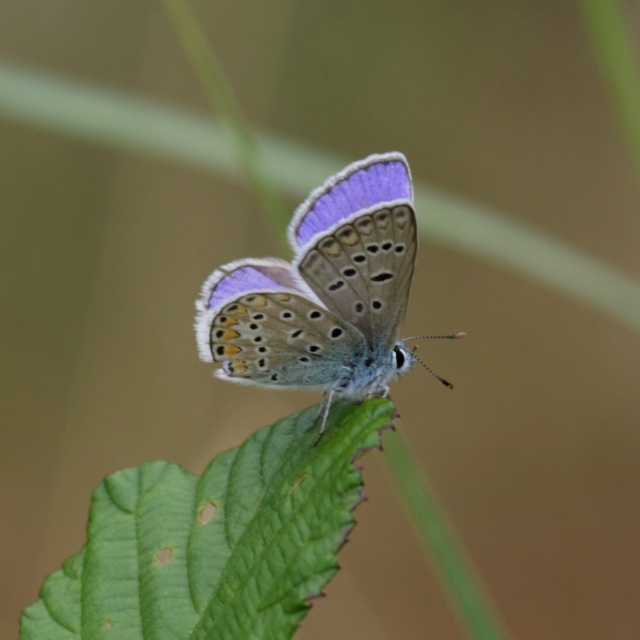Butterfly: (186, 158, 479, 447)
